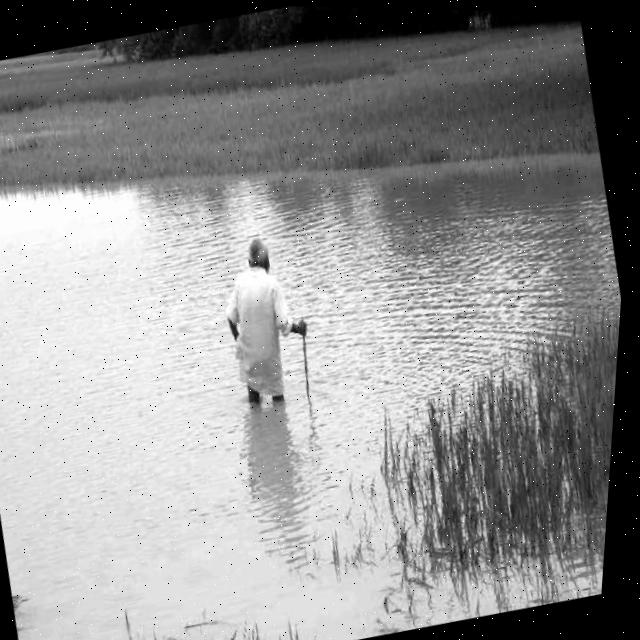civilian: (175, 199, 362, 446)
